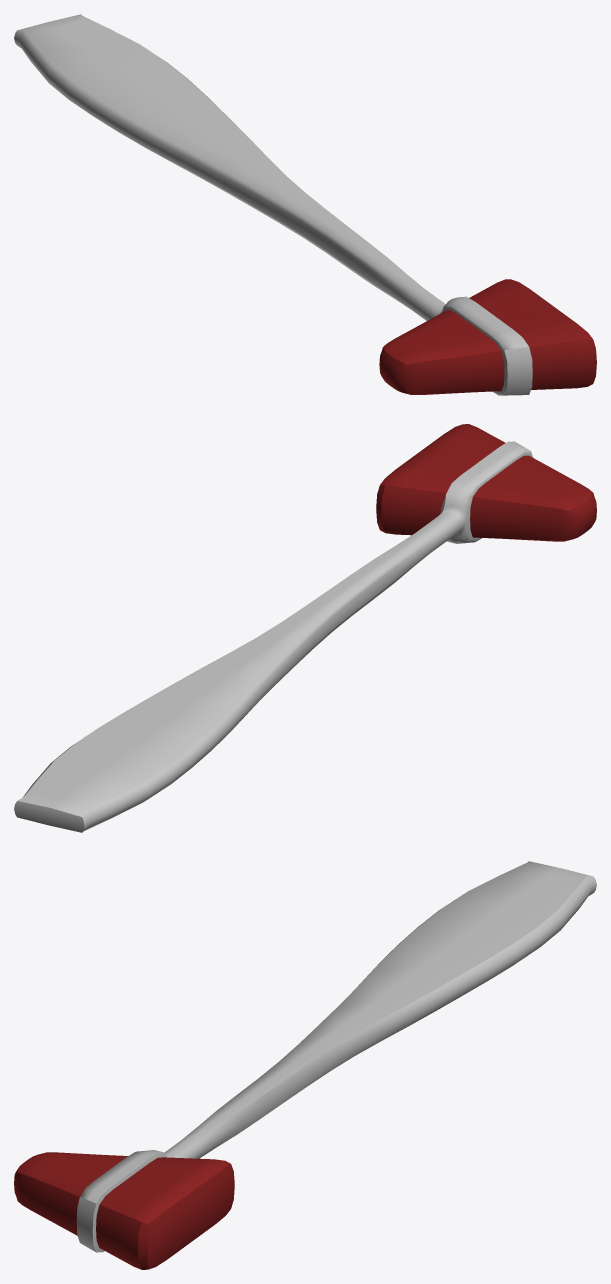
File: NeuroHammer_01.fbx
3 views of the same model, one above another, from view 1: azimuth 30°, elevation 25°; view 2: azimuth 150°, elevation 25°; view 3: azimuth 330°, elevation 25° (orthographic).
Visible parts, largest first — view 1: NeuroHammer_01; view 2: NeuroHammer_01; view 3: NeuroHammer_01.
Part boxes in pixels (x1,y1,x2,y2): NeuroHammer_01: [14, 14, 596, 395]; NeuroHammer_01: [14, 424, 596, 832]; NeuroHammer_01: [14, 861, 596, 1269].
Size of the model in its own units: 11.35 by 3.75 by 55.02.
1 material, 1 textured.
